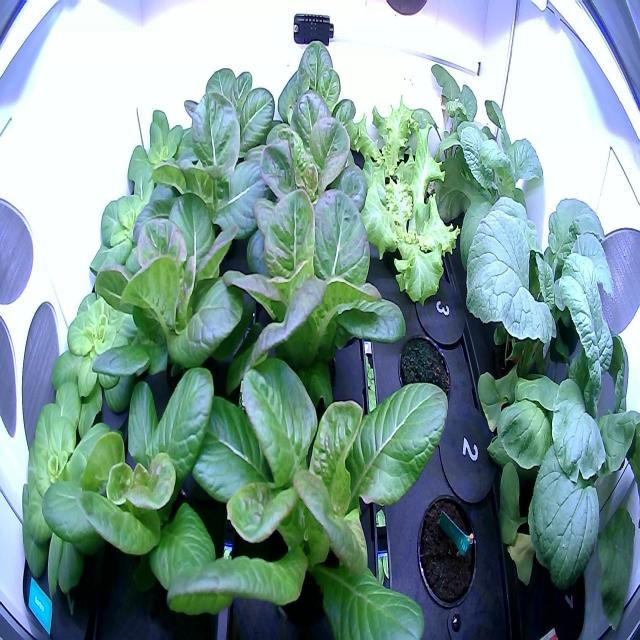Ready: (156, 326, 458, 639), (197, 163, 410, 432), (85, 174, 252, 410), (142, 88, 284, 256), (253, 88, 372, 244), (258, 25, 366, 167), (168, 49, 281, 184)
pod: (409, 485, 484, 617), (388, 325, 456, 423)
young: (32, 355, 250, 615), (14, 358, 150, 604), (45, 240, 157, 410), (87, 146, 189, 298), (117, 85, 210, 215)
